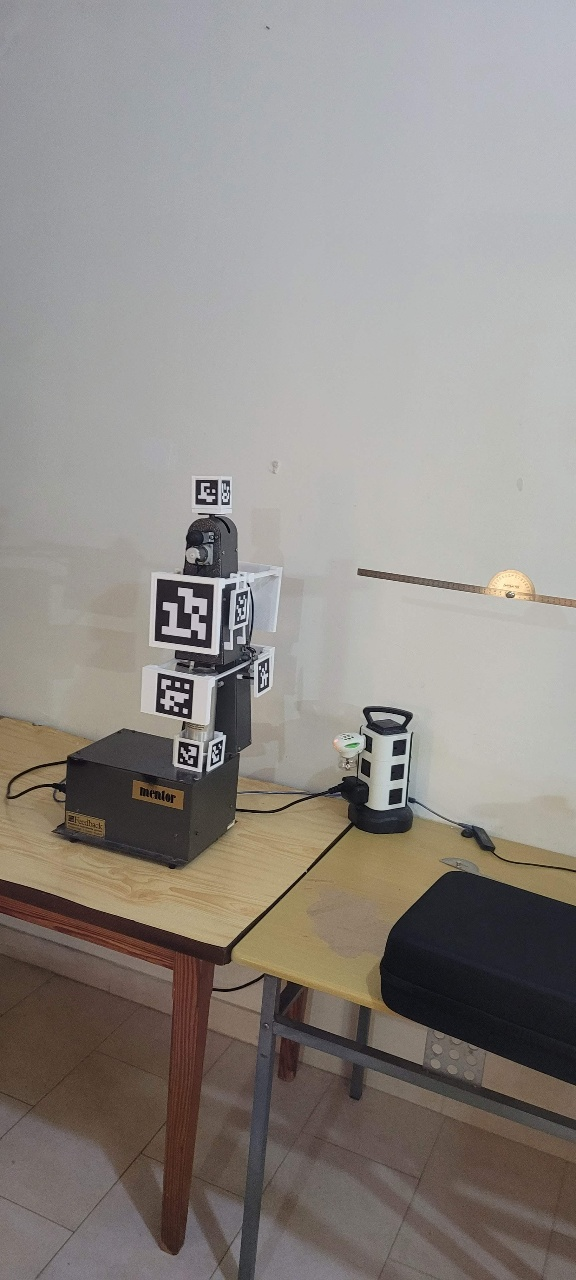Robot: (140, 474, 286, 775)
